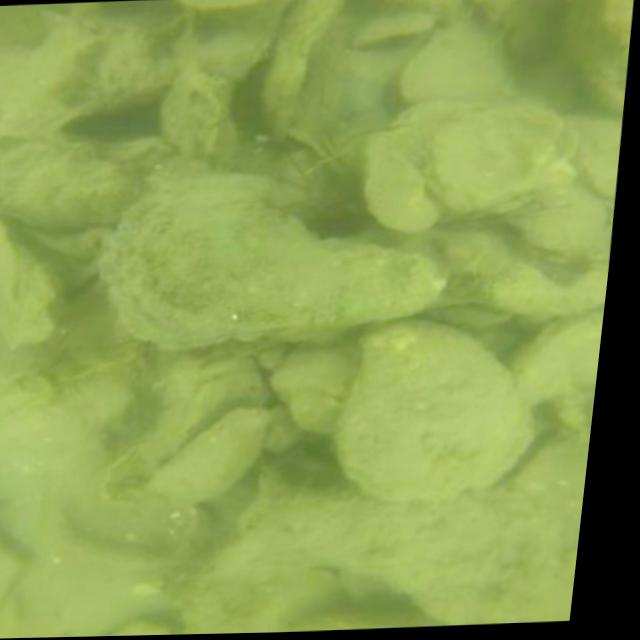Oyster-Closed: (57, 482, 195, 565)
Oyster-Indeterminate: (175, 478, 585, 625), (100, 170, 441, 346), (338, 311, 534, 496), (105, 352, 270, 506), (353, 102, 480, 232), (0, 125, 142, 223), (148, 409, 265, 505), (185, 570, 337, 631), (515, 307, 603, 410), (400, 21, 512, 98), (562, 0, 630, 116), (0, 225, 54, 343), (518, 198, 613, 260), (269, 331, 360, 395)
Oyster-Open: (0, 528, 34, 614)
